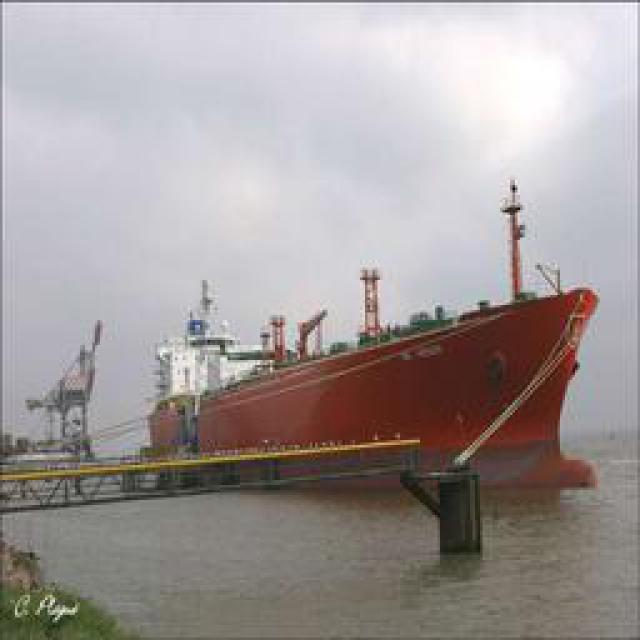Ship: (37, 286, 597, 501)
